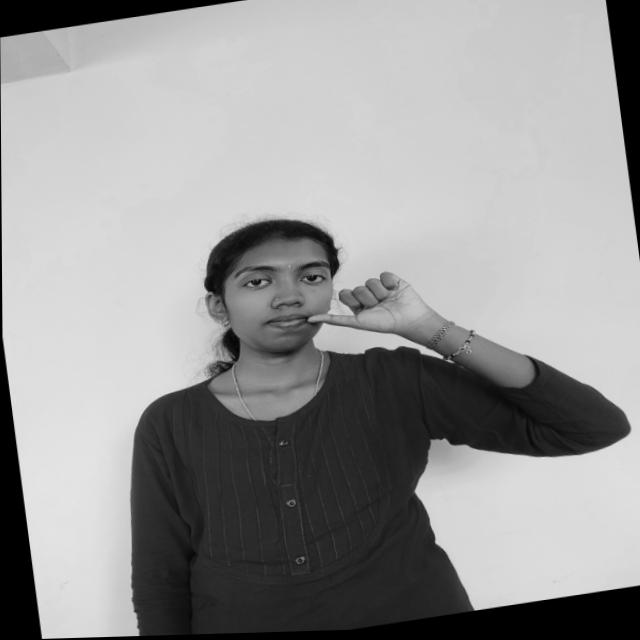Drink: (298, 265, 442, 354)
